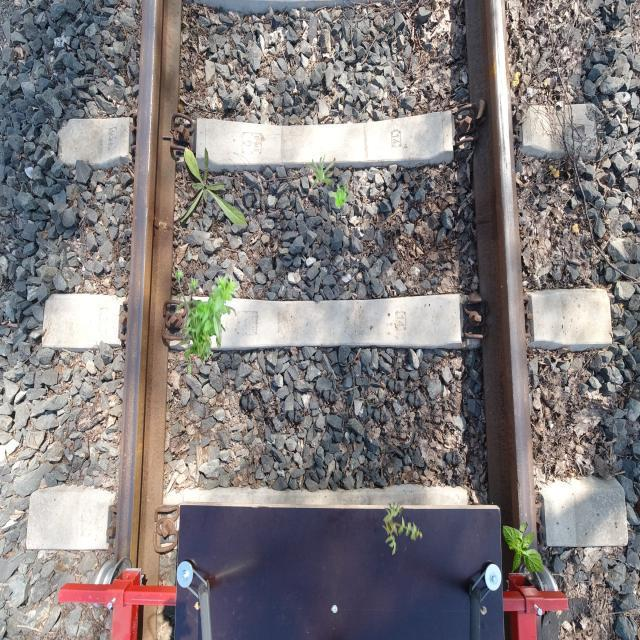Plant: (175, 268, 240, 376), (175, 147, 246, 228), (382, 502, 424, 556), (503, 521, 544, 574), (303, 153, 336, 188), (328, 184, 348, 209)
